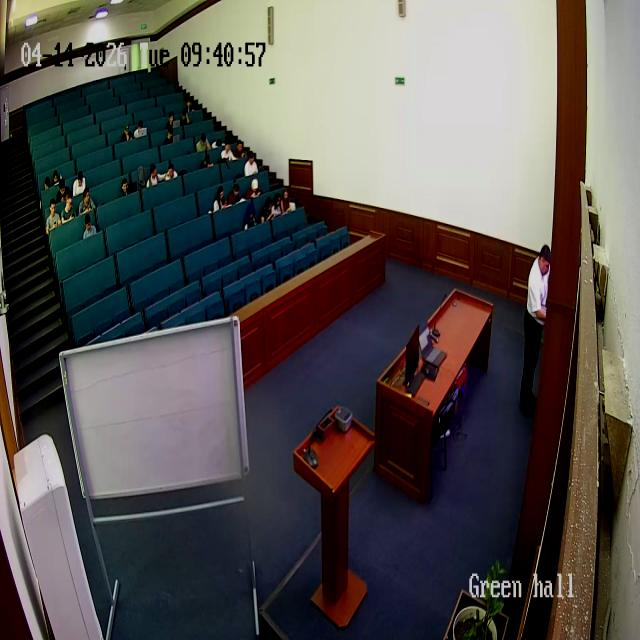person: (521, 245, 553, 415), (46, 197, 62, 236), (61, 191, 77, 223), (78, 186, 94, 216), (260, 197, 276, 223), (146, 162, 162, 188), (212, 184, 226, 213), (242, 203, 256, 231), (279, 187, 293, 215), (55, 176, 69, 204), (198, 150, 215, 173), (73, 170, 87, 197), (164, 111, 176, 142), (82, 213, 96, 239), (270, 193, 284, 219), (227, 179, 240, 207), (220, 140, 236, 162), (244, 153, 258, 177), (195, 133, 211, 154), (246, 179, 261, 201), (120, 120, 134, 143), (48, 169, 62, 191), (162, 163, 178, 182), (120, 176, 134, 197), (134, 119, 147, 140), (234, 136, 246, 156), (40, 178, 51, 196), (212, 136, 226, 150), (180, 106, 190, 125), (185, 98, 193, 113)
